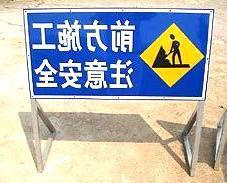sign: (24, 8, 213, 101)
